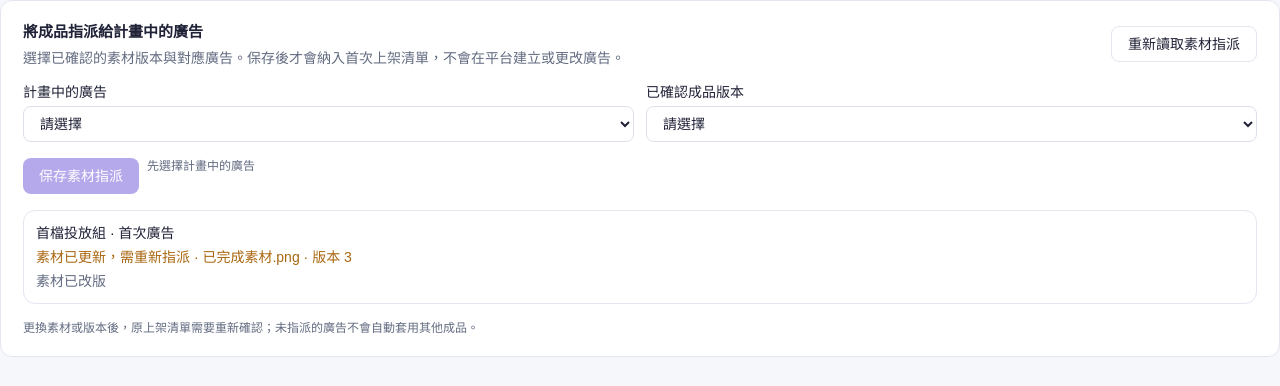
Test: shows stale mappings and allows an explicit unlink without inventing a replacement
expect the text "素材已改版" is shown: met, box [36, 272, 106, 288]
Select "首檔投放組 · 首次廣告" in the dropdown labelled "計畫中的廣告" at (328, 124), box [23, 106, 634, 142]
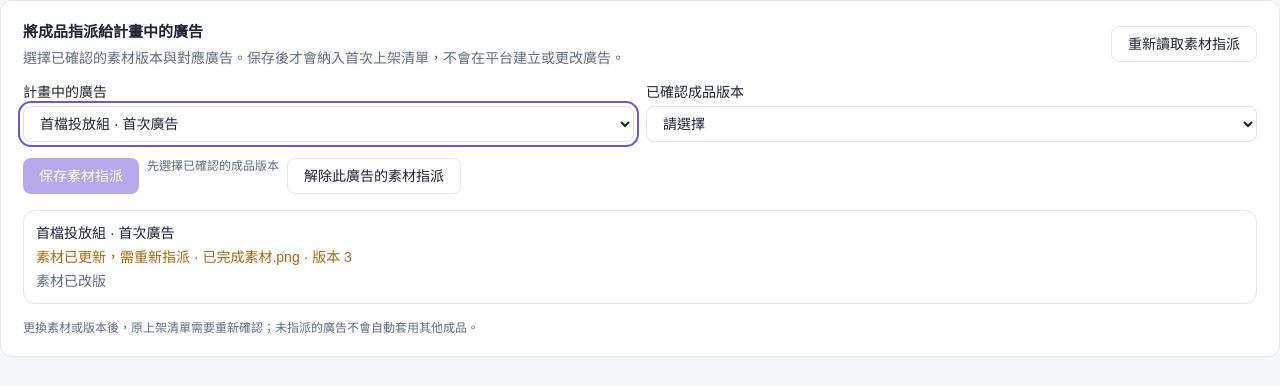
Click the button "解除此廣告的素材指派" at (374, 176), box [287, 158, 461, 194]
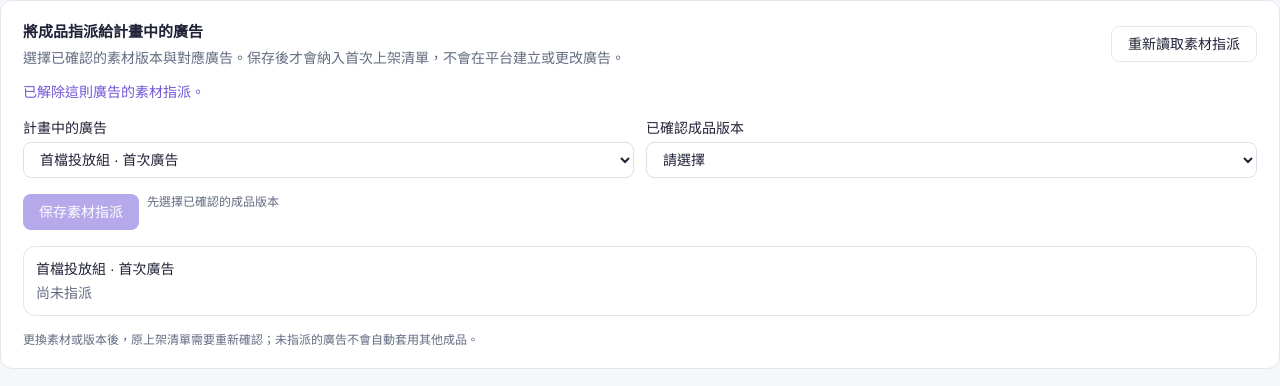
expect the text "尚未指派" is shown: met, box [36, 284, 92, 300]
